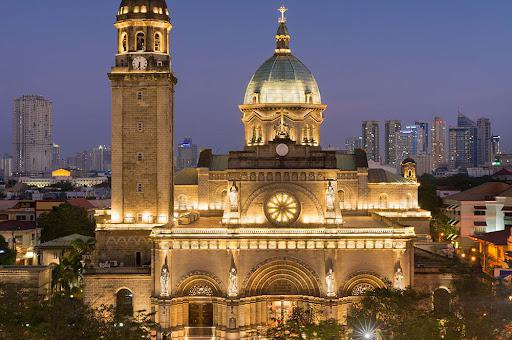manila_cathedral_church_intramuros_manila: (97, 1, 434, 340)
